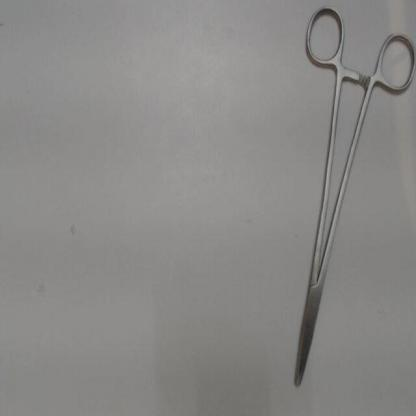8 Mayo Needle Holder: (285, 1, 415, 401)
